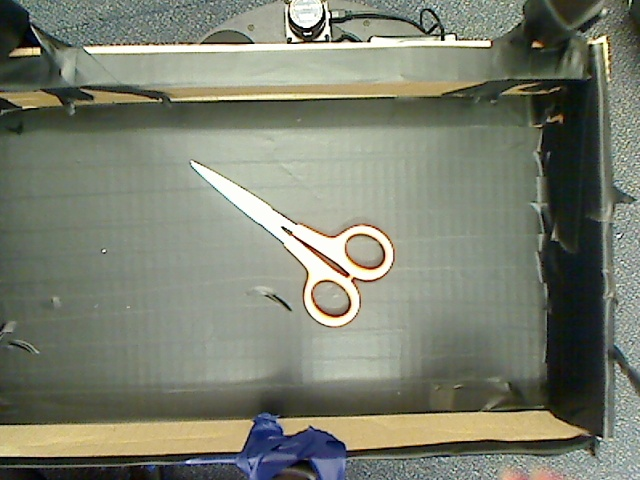scissors: (167, 134, 418, 342)
